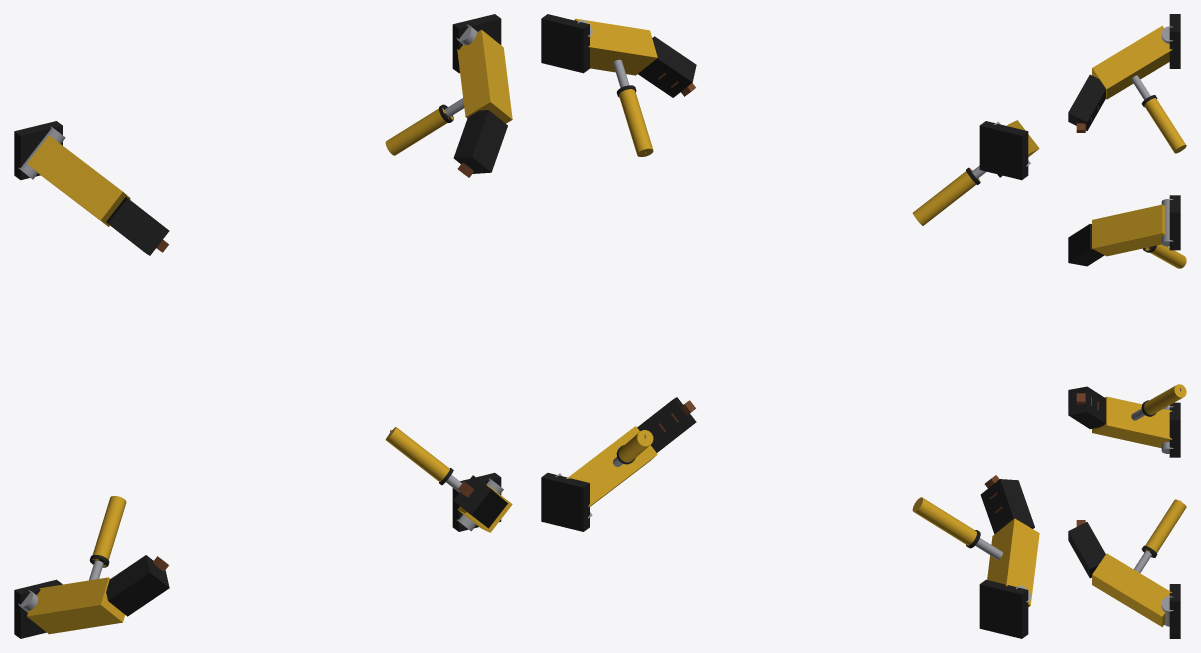
The model's file is trh_clamp.obj.
The picture shows the model from 3 angles, left to right: view 1: azimuth 30°, elevation 25°; view 2: azimuth 150°, elevation 25°; view 3: azimuth 270°, elevation 25°; orthographic projection. The views are drawn at different scales.
Parts seen in each view (by area): view 1: trh_clamp; view 2: trh_clamp; view 3: trh_clamp.
Boxes of the visible parts, x1,y1,x2,y2 form: trh_clamp: [14, 14, 512, 638]; trh_clamp: [541, 14, 1039, 638]; trh_clamp: [1068, 14, 1186, 638].
Bounding box in the file's own units: 5.24 × 5.24 × 1.31.
